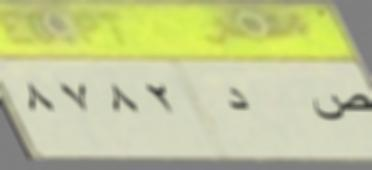2: (144, 74, 176, 121)
7: (61, 76, 92, 123)
8: (106, 78, 140, 126), (23, 78, 54, 126)
daal: (216, 78, 259, 126)
saad: (306, 80, 372, 128)
